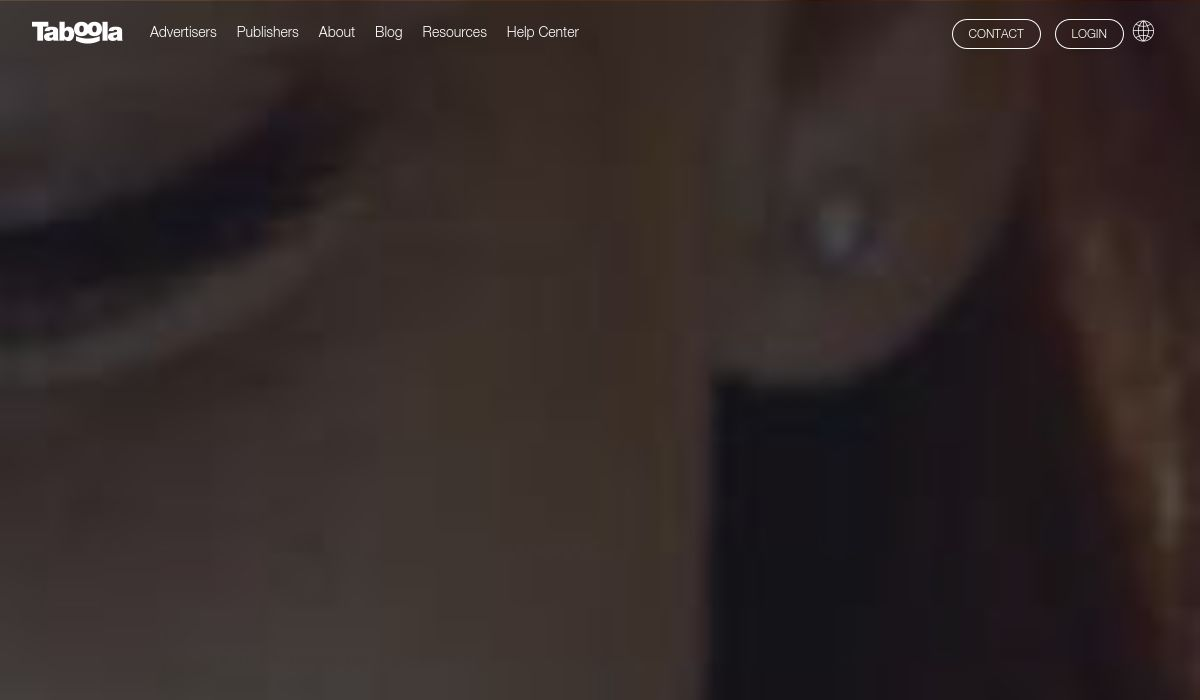menu: (23, 14, 137, 51)
menu-button: (949, 17, 1044, 52), (1055, 17, 1124, 52), (146, 22, 220, 39), (230, 22, 304, 39), (417, 23, 491, 40), (506, 22, 580, 39), (310, 23, 366, 37), (367, 23, 411, 38)
